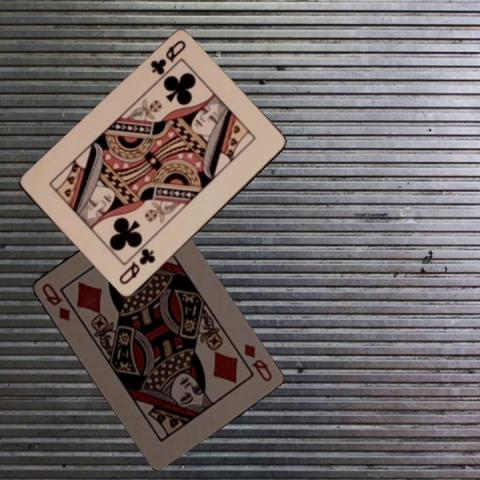Qc: (115, 246, 157, 287), (147, 38, 188, 78)
Qd: (38, 279, 71, 323), (240, 340, 273, 384)
